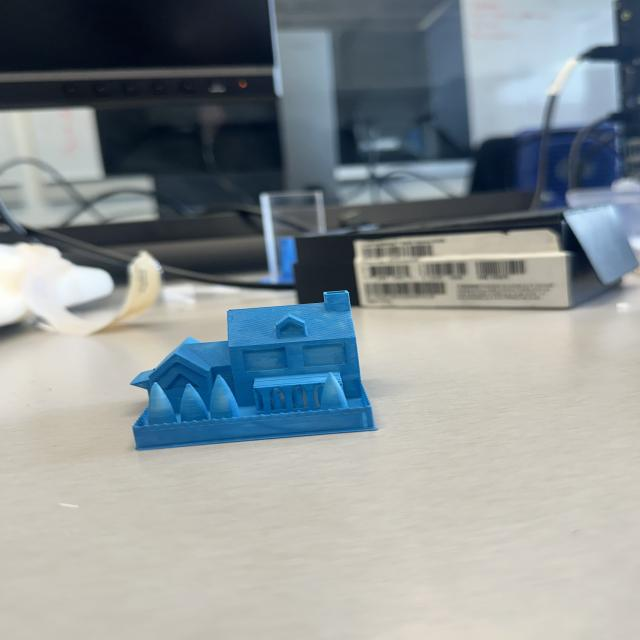house: (128, 290, 381, 452)
